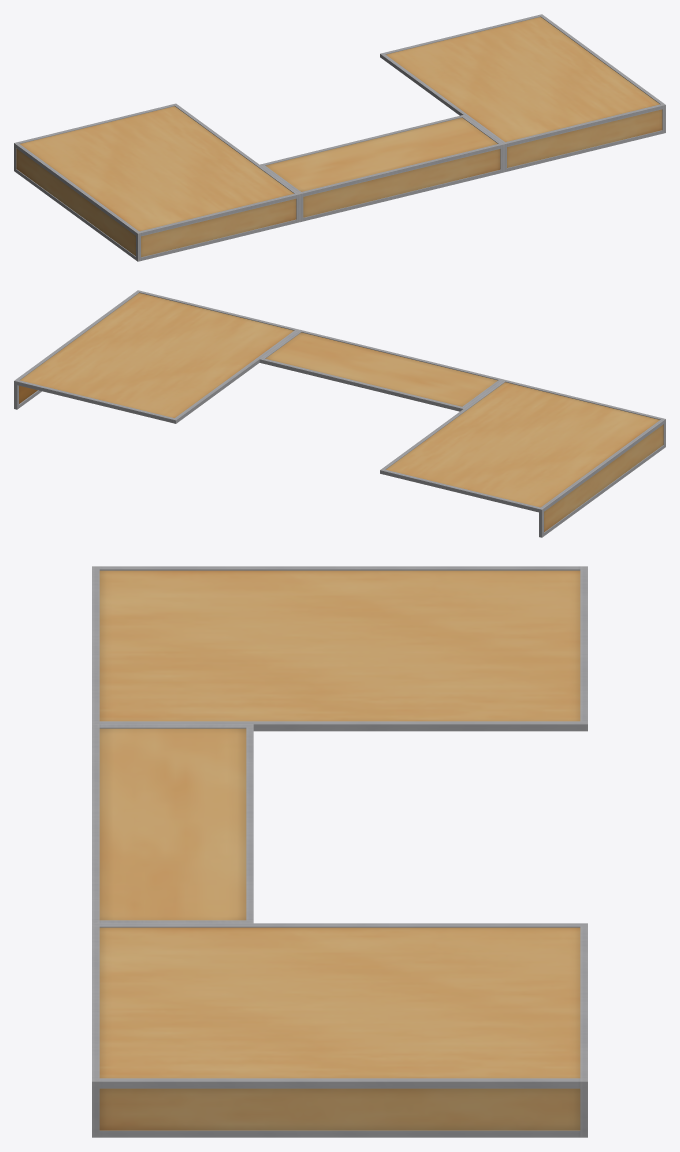
The model's file is jsf_2P_s02_c05_t02_DX.fbx.
The picture shows the model from 3 angles, top to bottom: view 1: azimuth 30°, elevation 25°; view 2: azimuth 150°, elevation 25°; view 3: azimuth 270°, elevation 25°; orthographic projection. The views are drawn at different scales.
Visible parts, largest first — view 1: jsf_2P_s02_c05_t02_DX; view 2: jsf_2P_s02_c05_t02_DX; view 3: jsf_2P_s02_c05_t02_DX.
Boxes of the visible parts, x1=… form: jsf_2P_s02_c05_t02_DX: x1=14, y1=14, x2=665, y2=261; jsf_2P_s02_c05_t02_DX: x1=14, y1=290, x2=665, y2=537; jsf_2P_s02_c05_t02_DX: x1=92, y1=566, x2=587, y2=1137.
Bounding box in the file's own units: 246 × 12.51 × 100.
